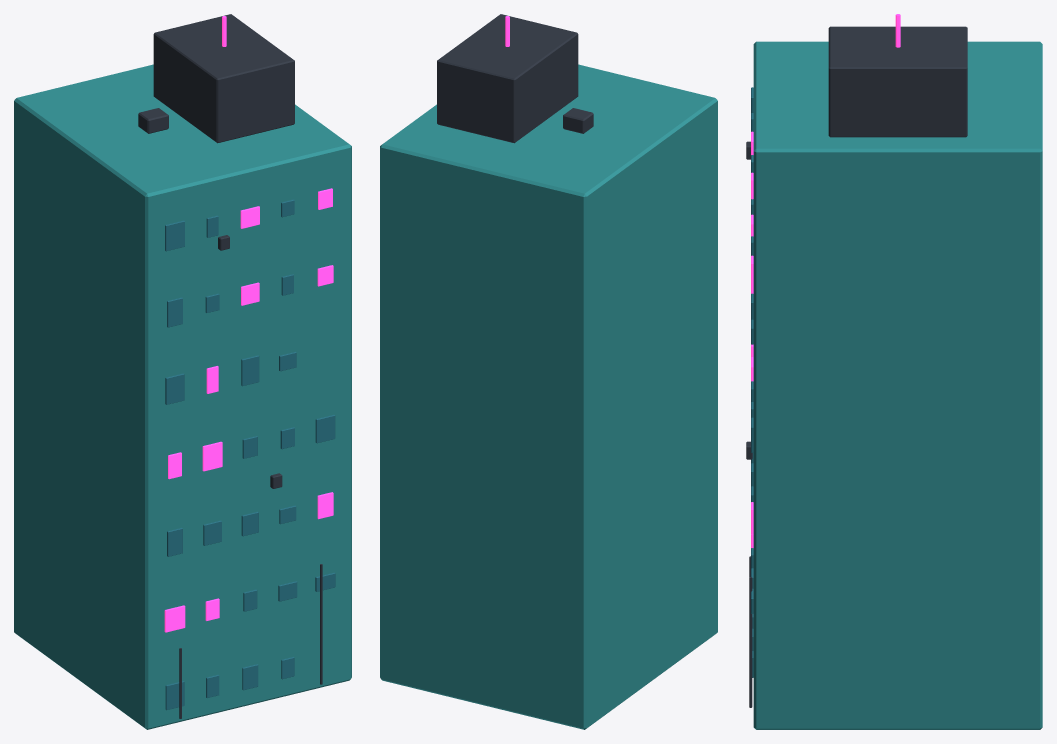
File: building_011_seed11.glb
3 renders of one model, left to right at view 1: azimuth 30°, elevation 25°; view 2: azimuth 150°, elevation 25°; view 3: azimuth 270°, elevation 25°, orthographic. The views are drawn at different scales.
Parts seen in each view (by area): view 1: building_011_seed11; view 2: building_011_seed11; view 3: building_011_seed11.
Part boxes in pixels (<box>): building_011_seed11: <box>14,14,351,729</box>; building_011_seed11: <box>380,14,717,729</box>; building_011_seed11: <box>746,14,1042,729</box>.
Size of the model in its own units: 7.36 by 21.42 by 8.43.
